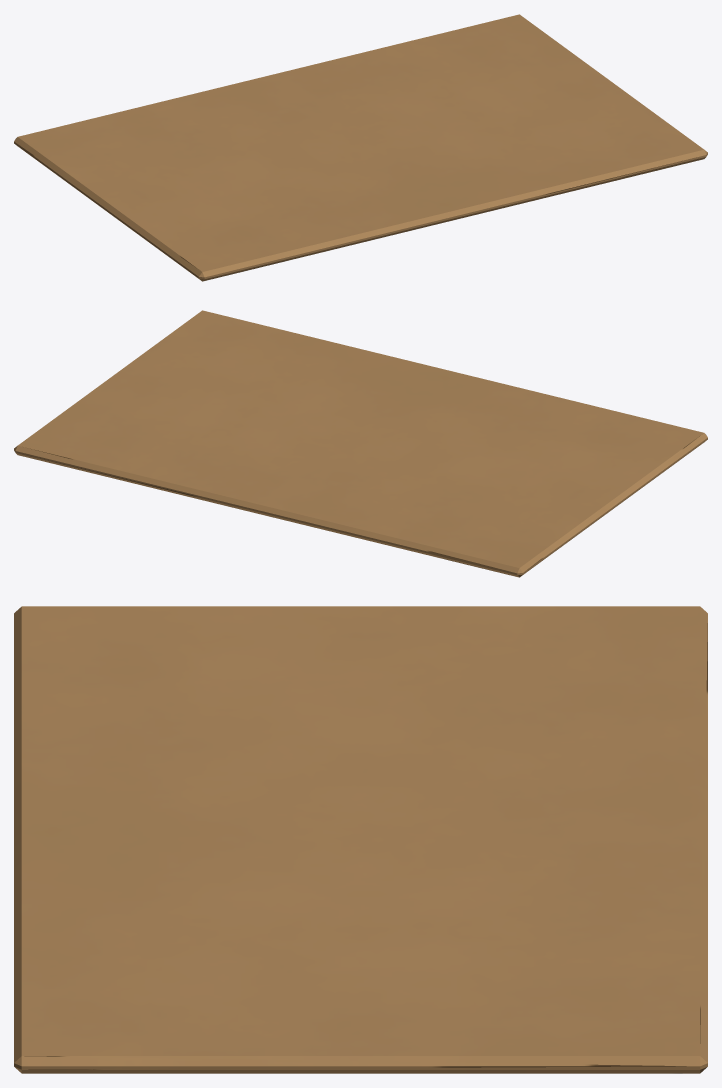
File: doormat.glb
The picture shows the model from 3 angles, top to bottom: view 1: azimuth 30°, elevation 25°; view 2: azimuth 150°, elevation 25°; view 3: azimuth 270°, elevation 25°; orthographic projection. The views are drawn at different scales.
Visible parts, largest first — view 1: doormat; view 2: doormat; view 3: doormat.
Boxes of the visible parts, <box> form: doormat: <box>14,14,707,281</box>; doormat: <box>14,310,707,577</box>; doormat: <box>14,606,707,1073</box>.
Size of the model in its own units: 0.84 by 0.015 by 0.54.
Materials: 1 (1 with a texture image).
